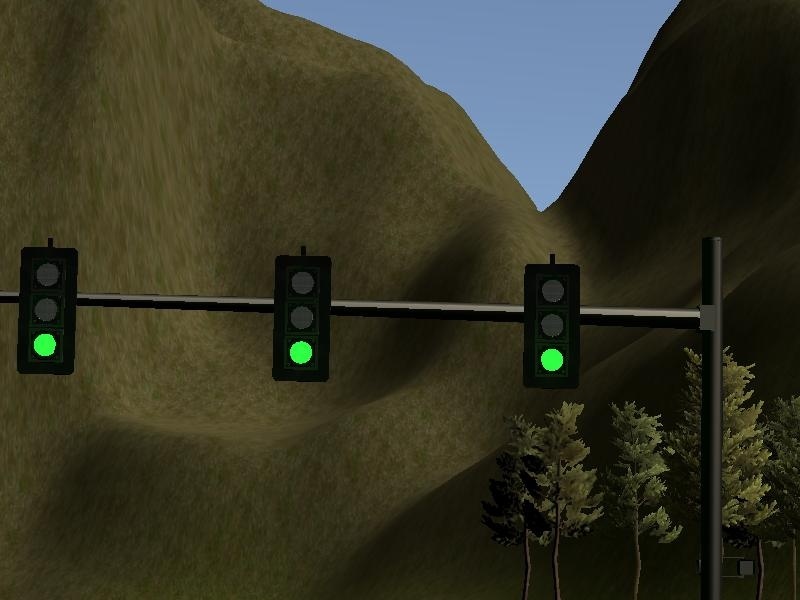GREEN: (18, 247, 77, 375), (273, 257, 330, 381), (524, 265, 579, 387)
